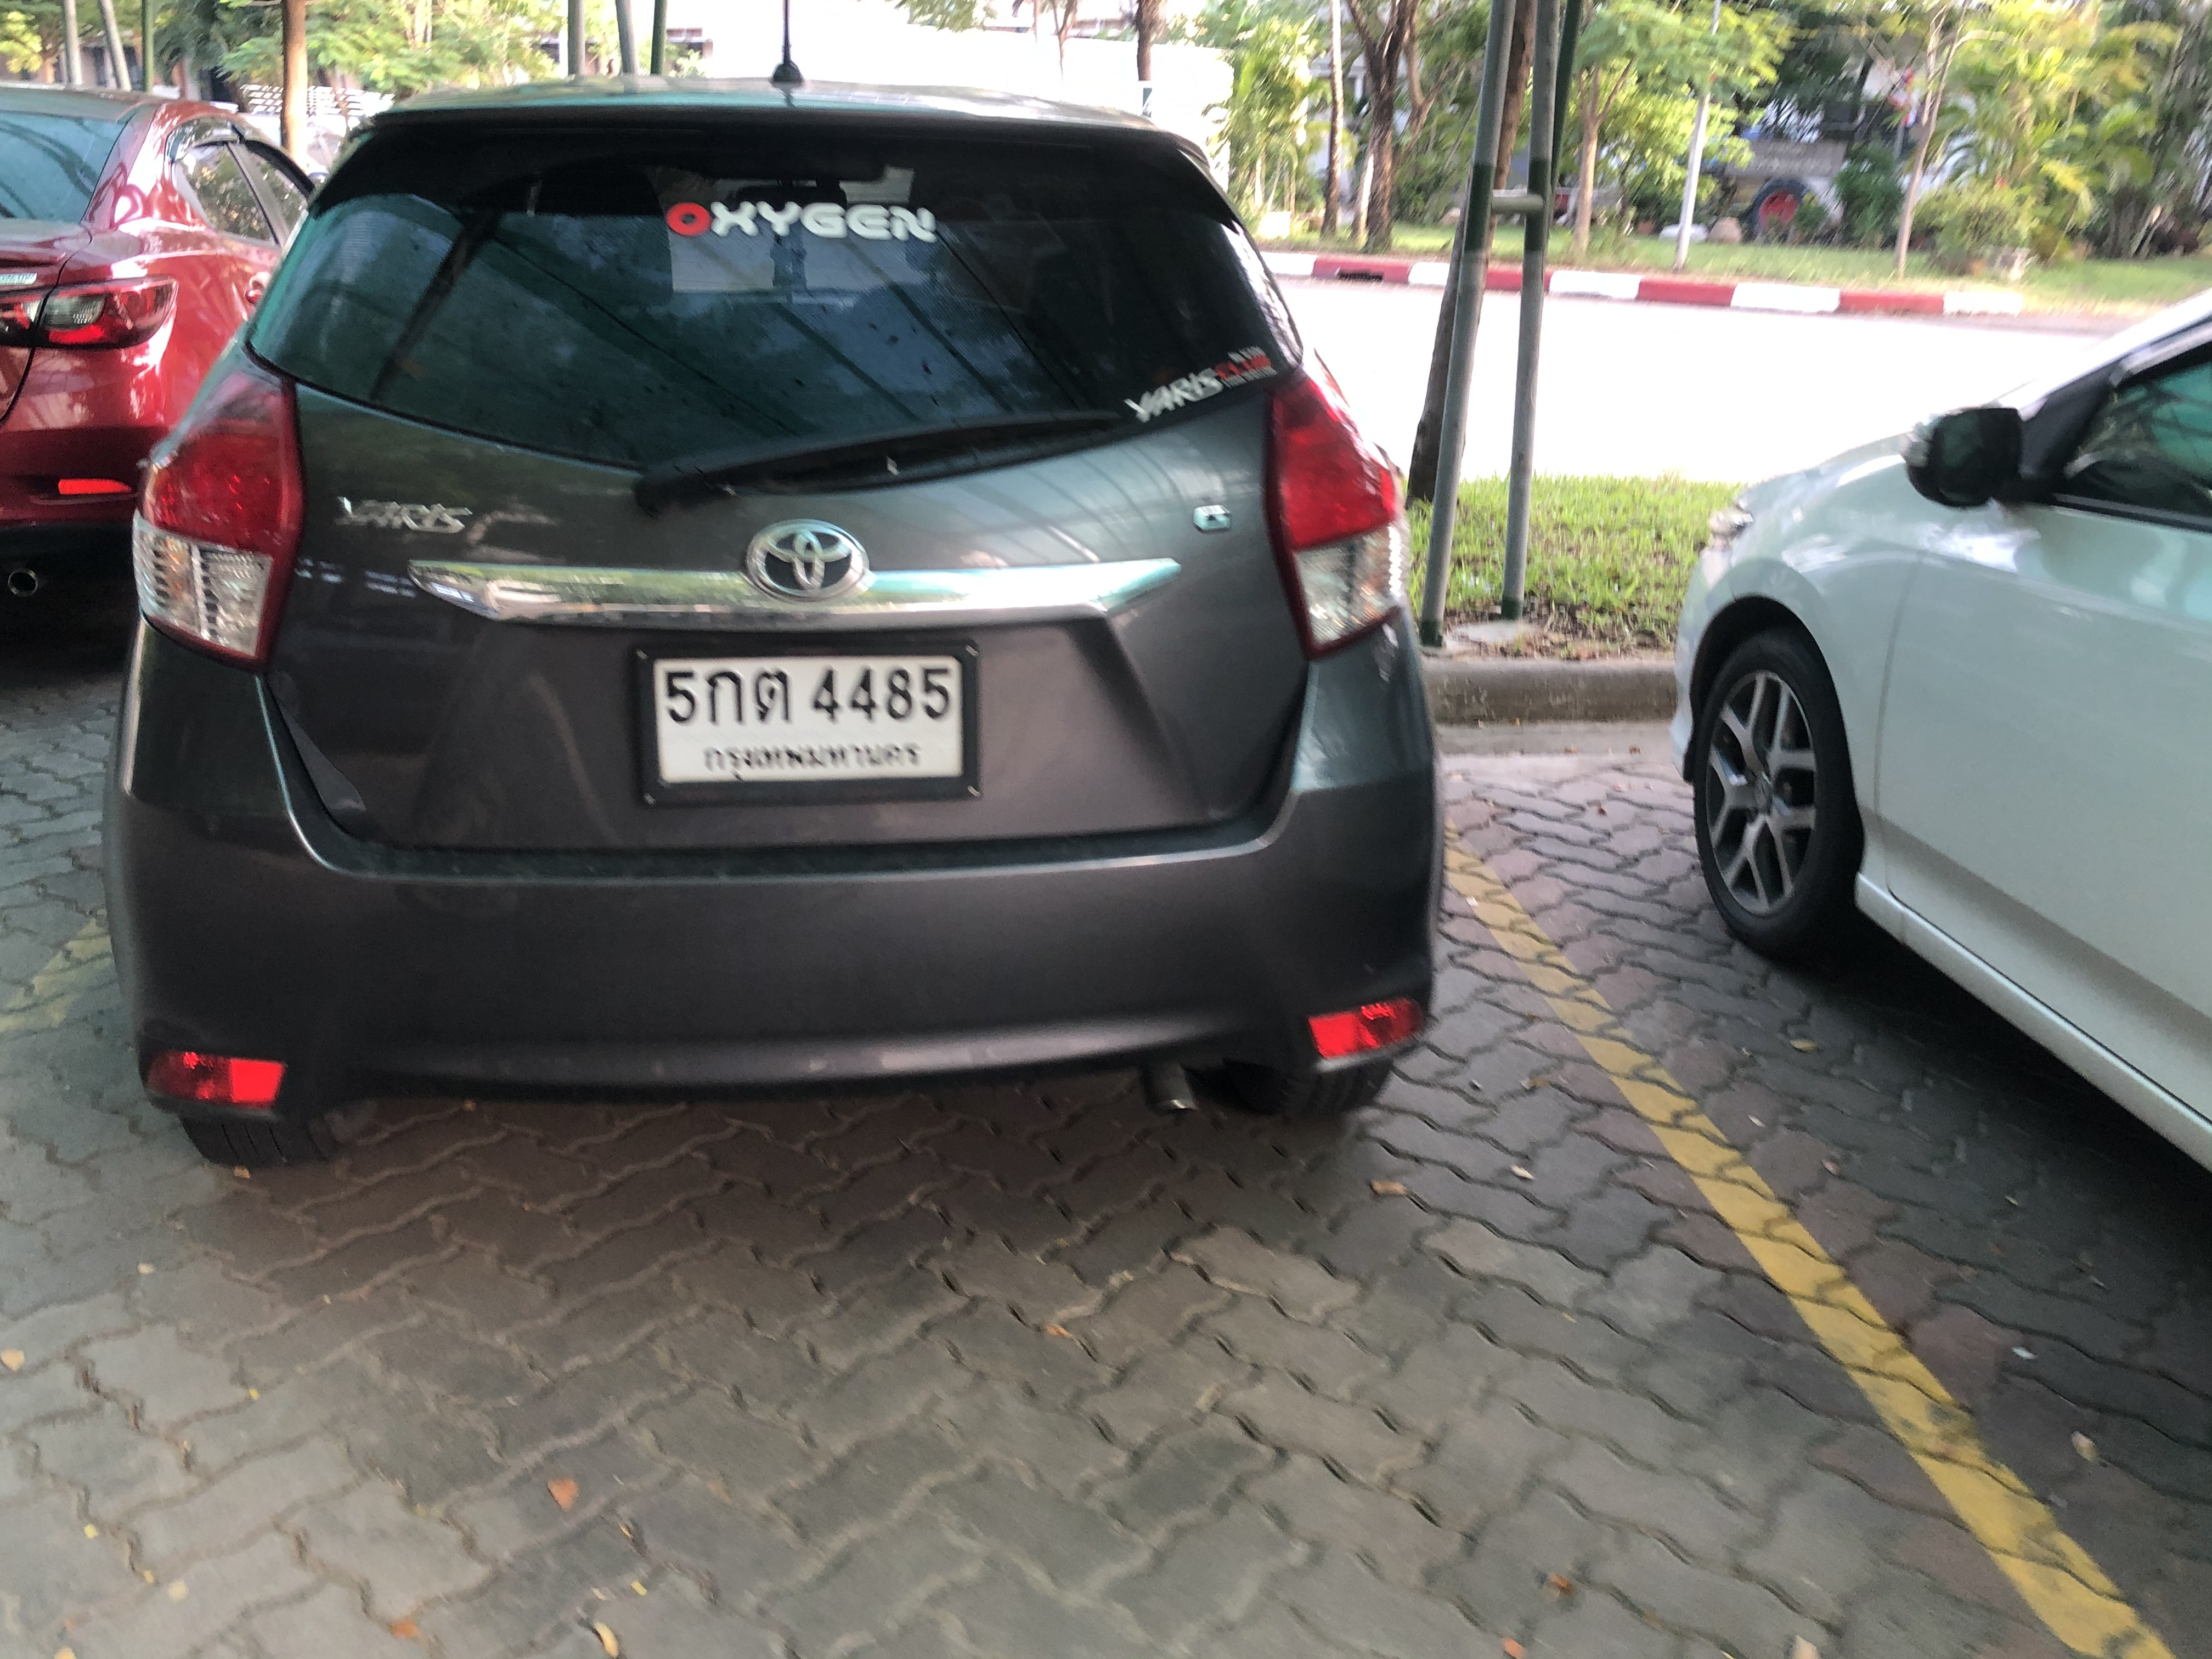in: (653, 660, 961, 784)
out: (627, 643, 988, 805)
